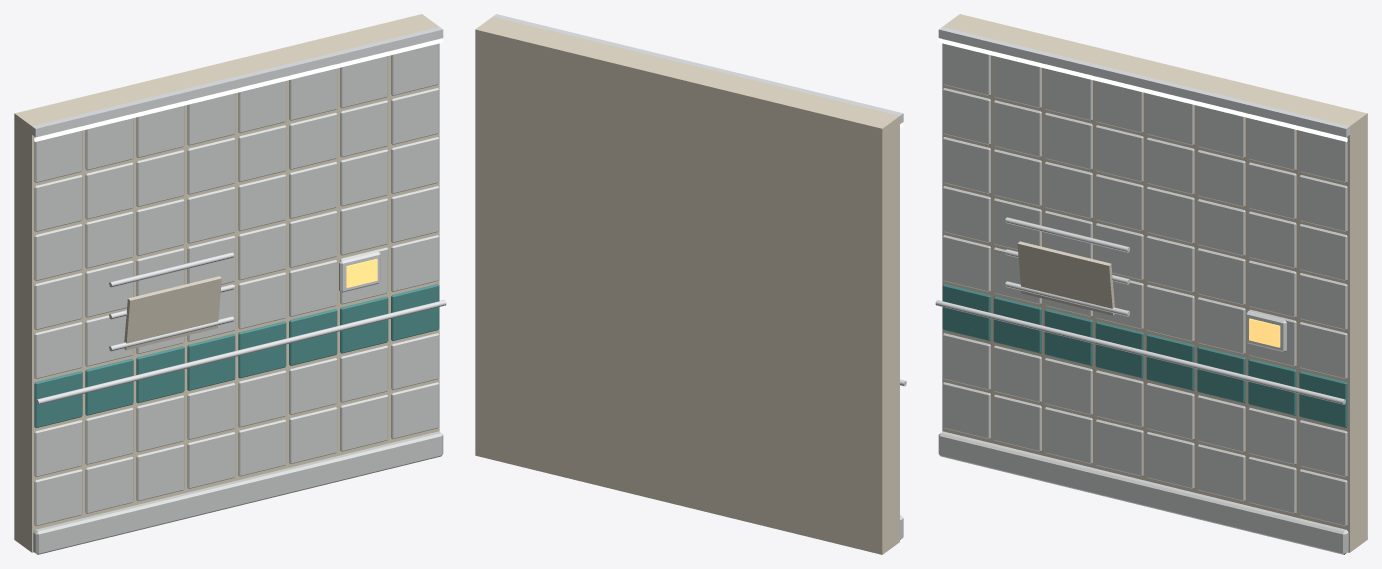
The model's file is wall_hm_tile.glb.
The picture shows the model from 3 angles, left to right: view 1: azimuth 30°, elevation 25°; view 2: azimuth 150°, elevation 25°; view 3: azimuth 330°, elevation 25°; orthographic projection.
Parts seen in each view (by area): view 1: wall_hm_tile; view 2: wall_hm_tile; view 3: wall_hm_tile.
Part boxes in pixels (x1,y1,x2,y2): wall_hm_tile: (14,14,446,554); wall_hm_tile: (475,14,906,554); wall_hm_tile: (935,14,1367,554).
Size of the model in its own units: 4 by 4 by 0.4946.
